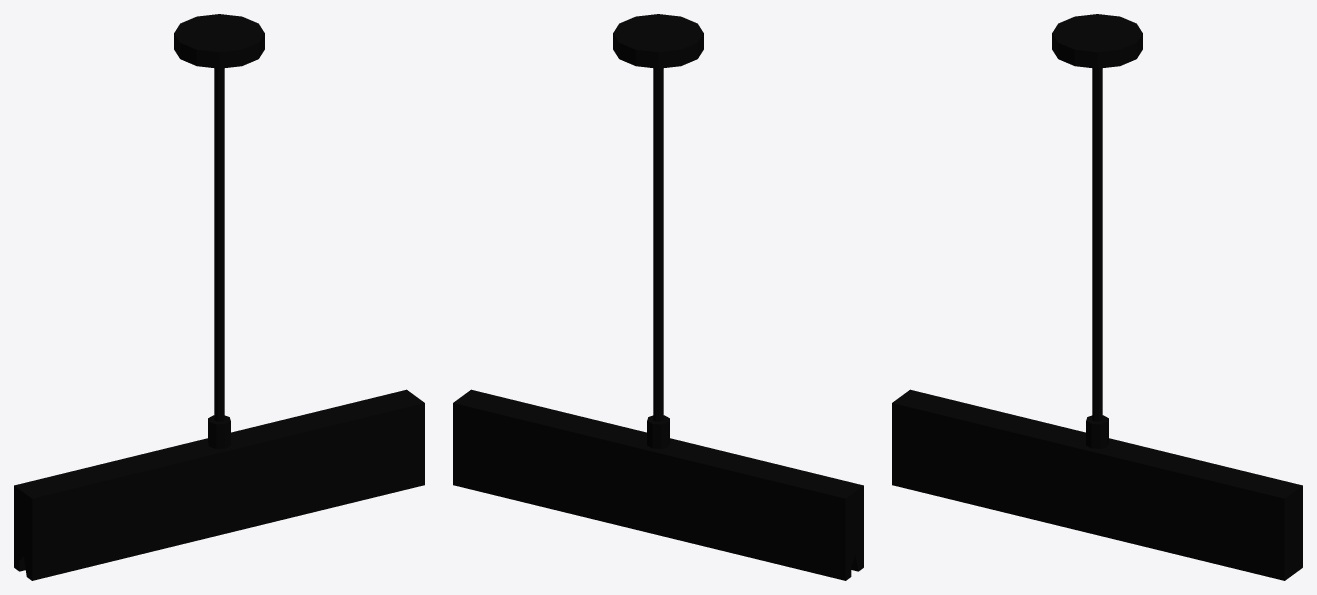
File: SM_Build_Lichtschiene_Gerade_050.fbx
3 views of the same model, side by side, from view 1: azimuth 30°, elevation 25°; view 2: azimuth 150°, elevation 25°; view 3: azimuth 330°, elevation 25° (orthographic).
Parts seen in each view (by area): view 1: Lichtschiene_Gerade_050; view 2: Lichtschiene_Gerade_050; view 3: Lichtschiene_Gerade_050.
Part boxes in pixels (x1=…): Lichtschiene_Gerade_050: x1=14, y1=14, x2=424, y2=580; Lichtschiene_Gerade_050: x1=453, y1=14, x2=863, y2=580; Lichtschiene_Gerade_050: x1=892, y1=14, x2=1302, y2=580.
Bounding box in the file's own units: 0.5 × 0.6 × 0.1.
